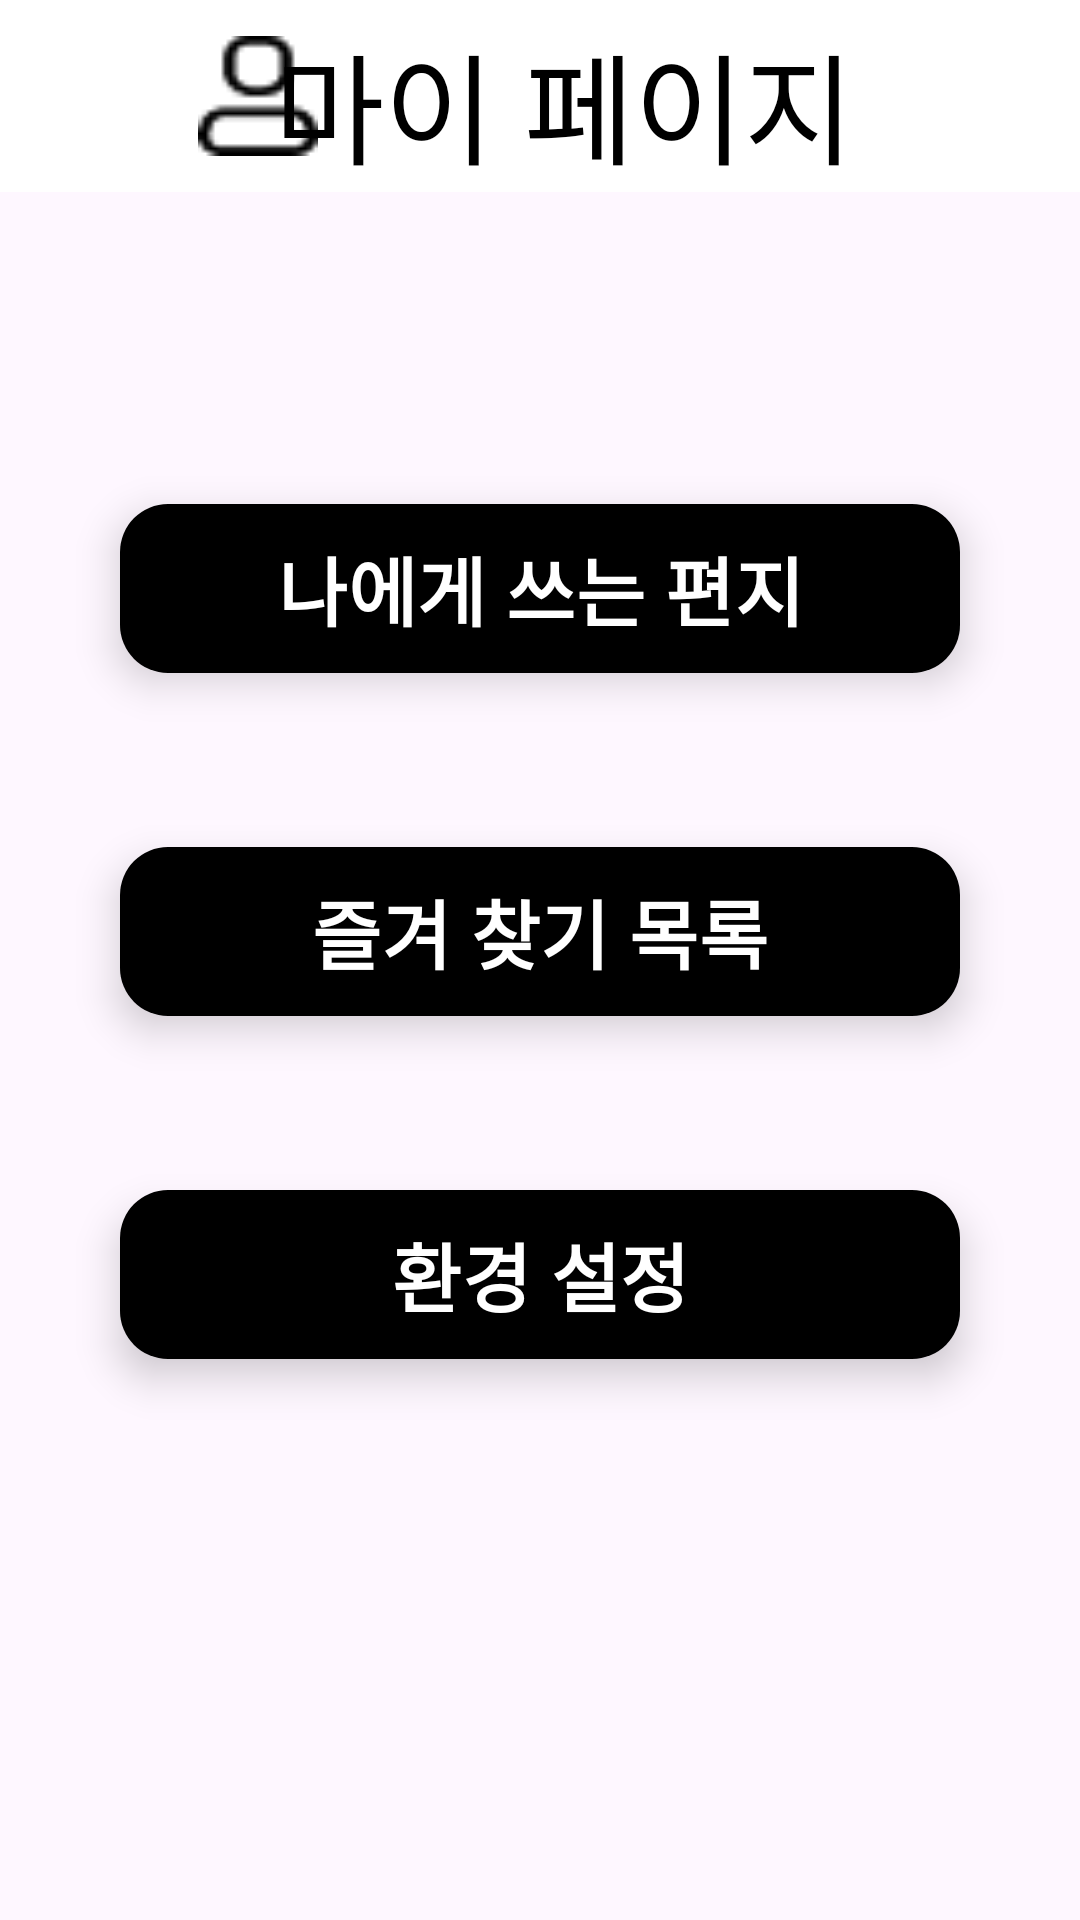

Icons on this 1080w x 1920h Android screen, each with its box as Rect(x1, y1, x2, y2):
mypage: Rect(198, 36, 318, 156)
